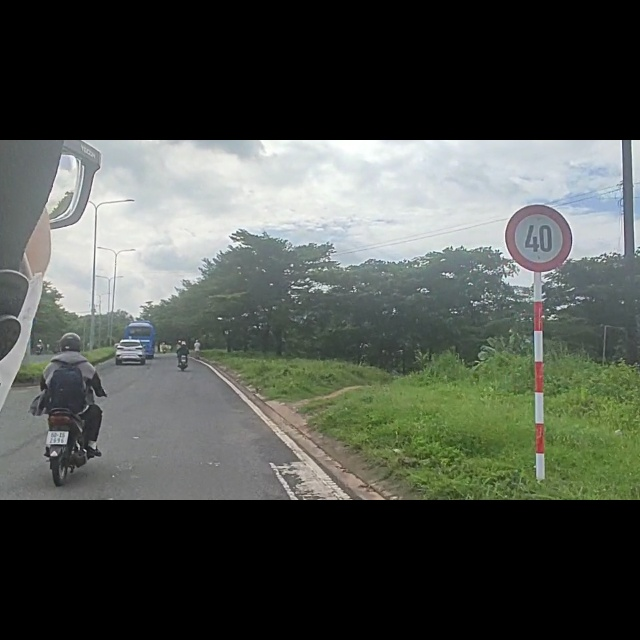bien_cam: (504, 110, 578, 238)
